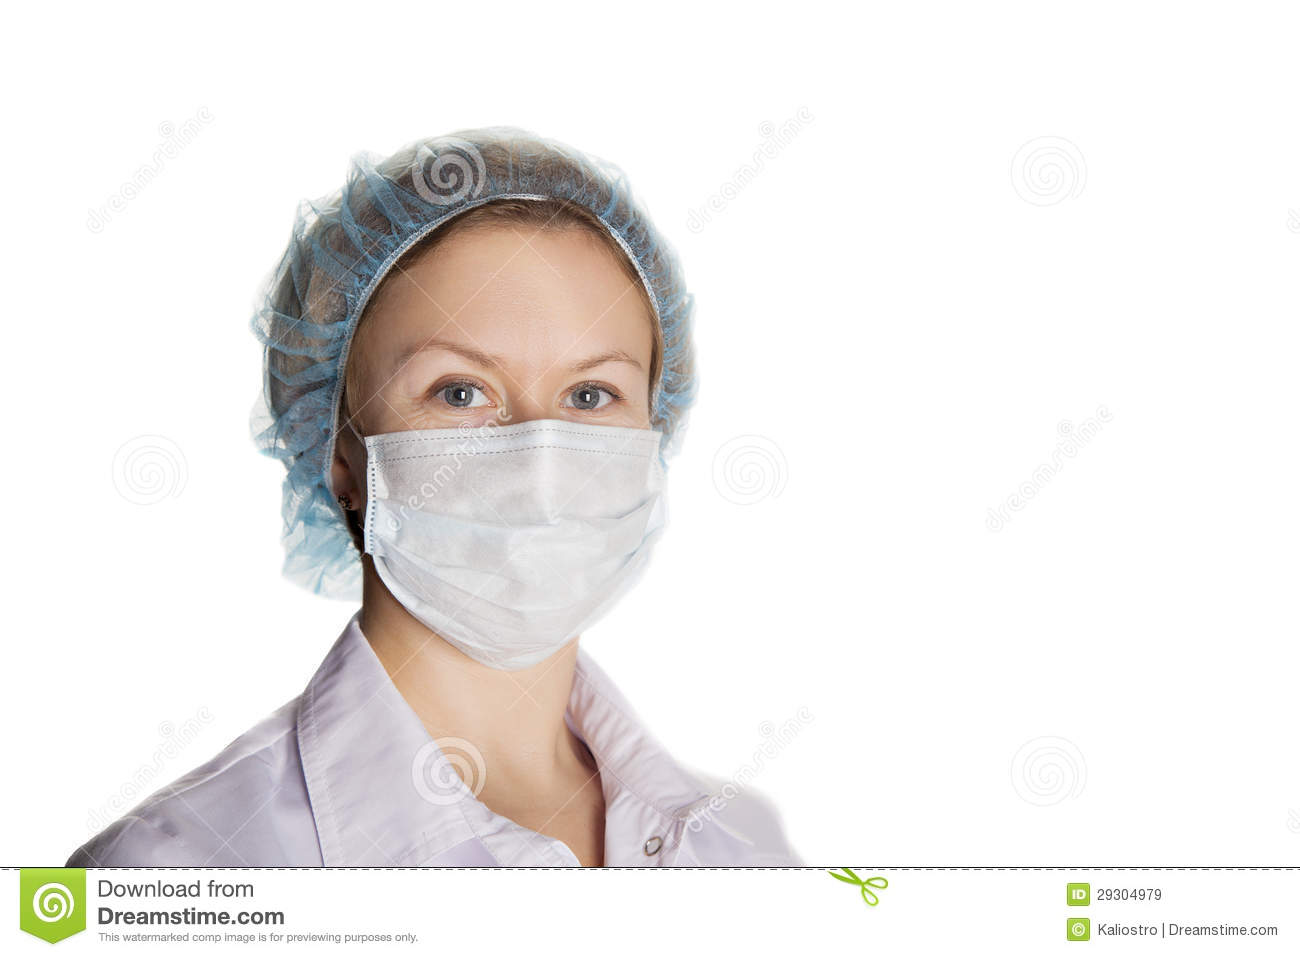mask: (382, 416, 638, 669)
